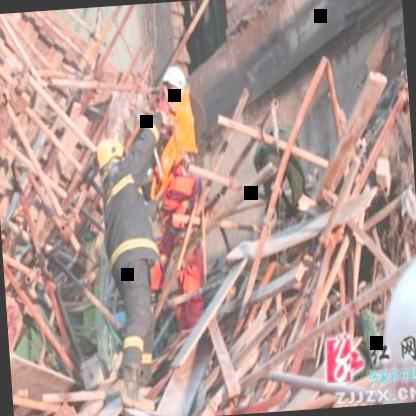helmet: (93, 132, 129, 187), (157, 64, 190, 113)
